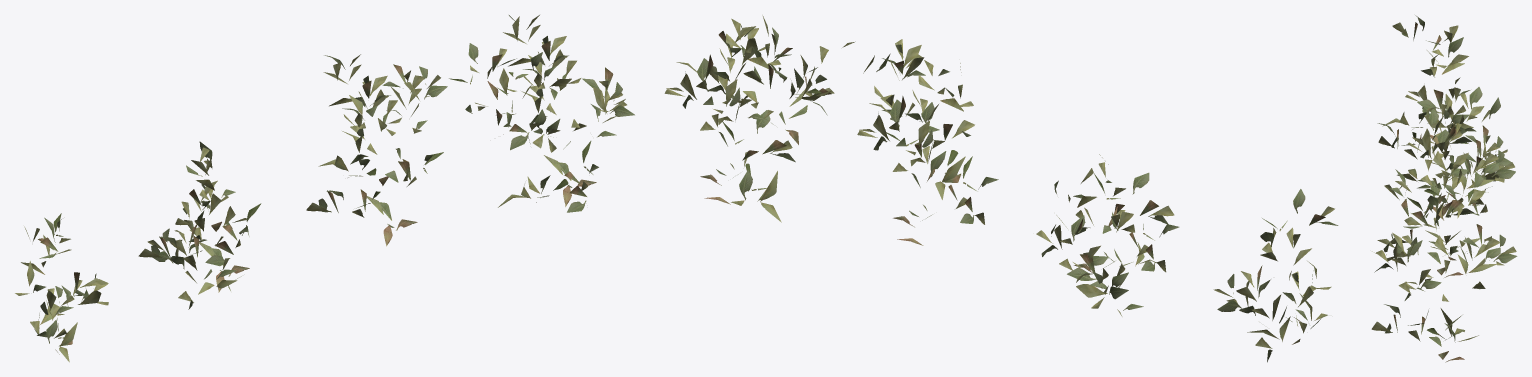
The model's file is shrub_dry_c.glb.
3 views of the same model, side by side, from view 1: azimuth 30°, elevation 25°; view 2: azimuth 150°, elevation 25°; view 3: azimuth 270°, elevation 25° (orthographic). The views are drawn at different scales.
Visible parts, largest first — view 1: shrub_04; view 2: shrub_04; view 3: shrub_04.
Boxes of the visible parts, left/top/right/bottom form: shrub_04: left=15, top=15, right=634, bottom=362; shrub_04: left=664, top=15, right=1338, bottom=362; shrub_04: left=1371, top=15, right=1517, bottom=362.
Size of the model in its own units: 0.5723 by 0.1899 by 0.136.
Materials: 1 (1 with a texture image).
